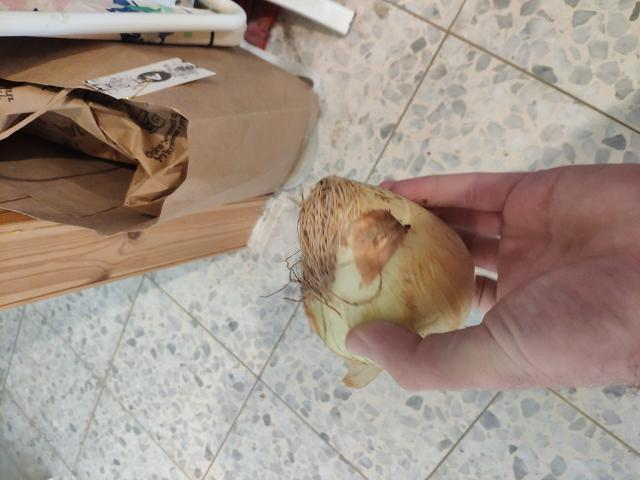onion: (276, 170, 488, 386)
